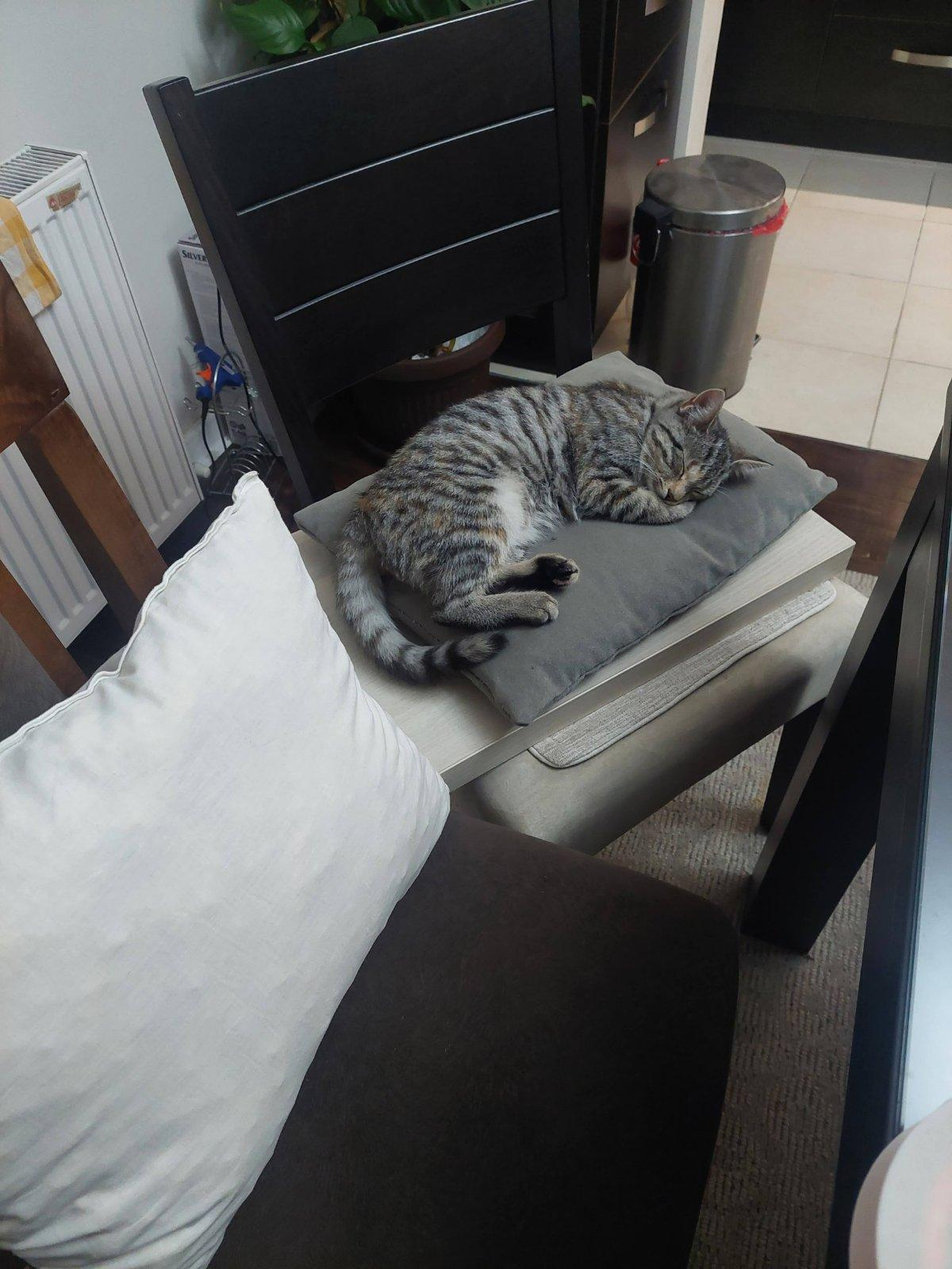macka: (337, 381, 767, 685)
